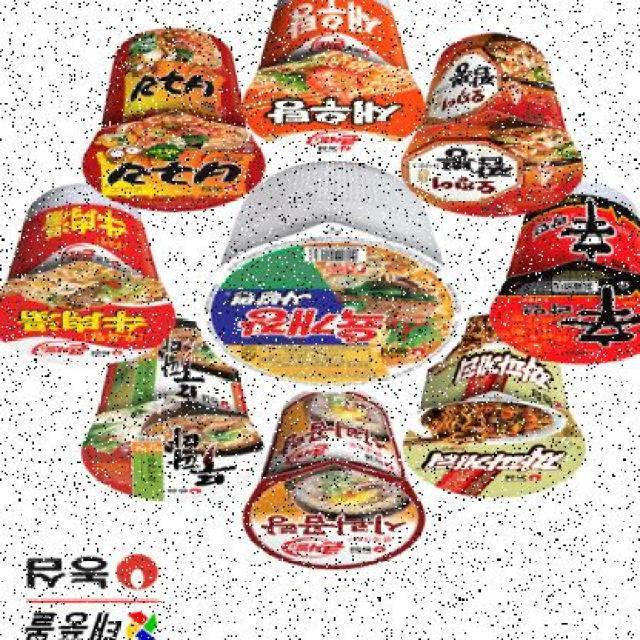Miscellaneous: (196, 162, 462, 392), (80, 318, 266, 502), (402, 313, 586, 499), (79, 25, 264, 208), (406, 40, 588, 222), (244, 392, 418, 570), (0, 188, 174, 362), (248, 0, 423, 162), (497, 188, 640, 369)
